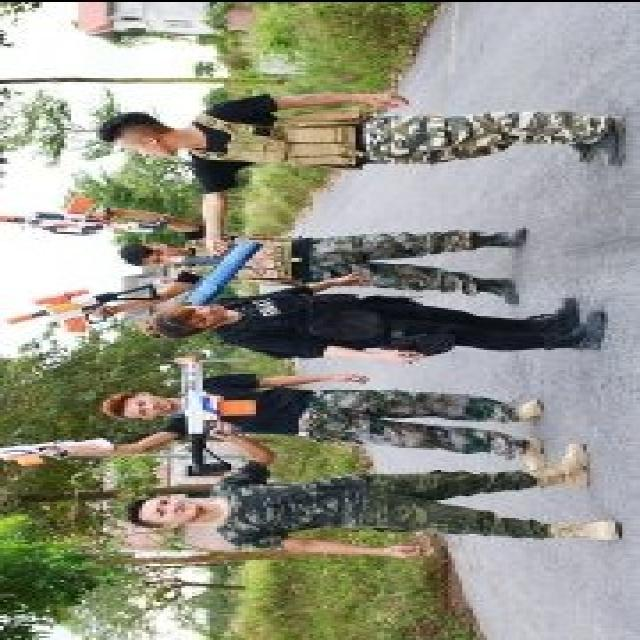Nerf gun: (167, 345, 260, 487), (0, 275, 164, 337), (0, 189, 174, 247), (171, 231, 263, 313), (2, 433, 126, 475)
